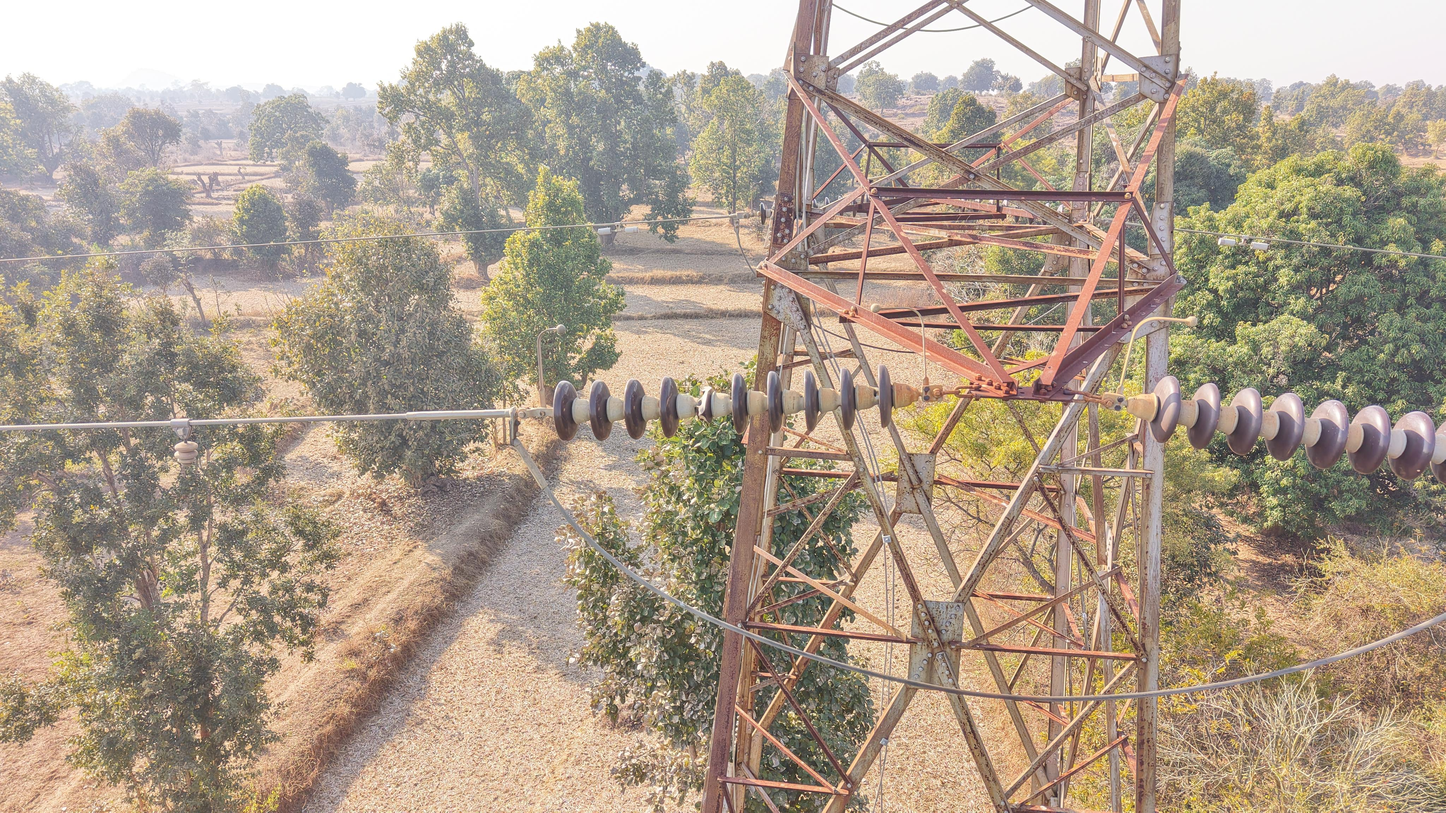broken_insulator: (687, 376, 720, 438)
